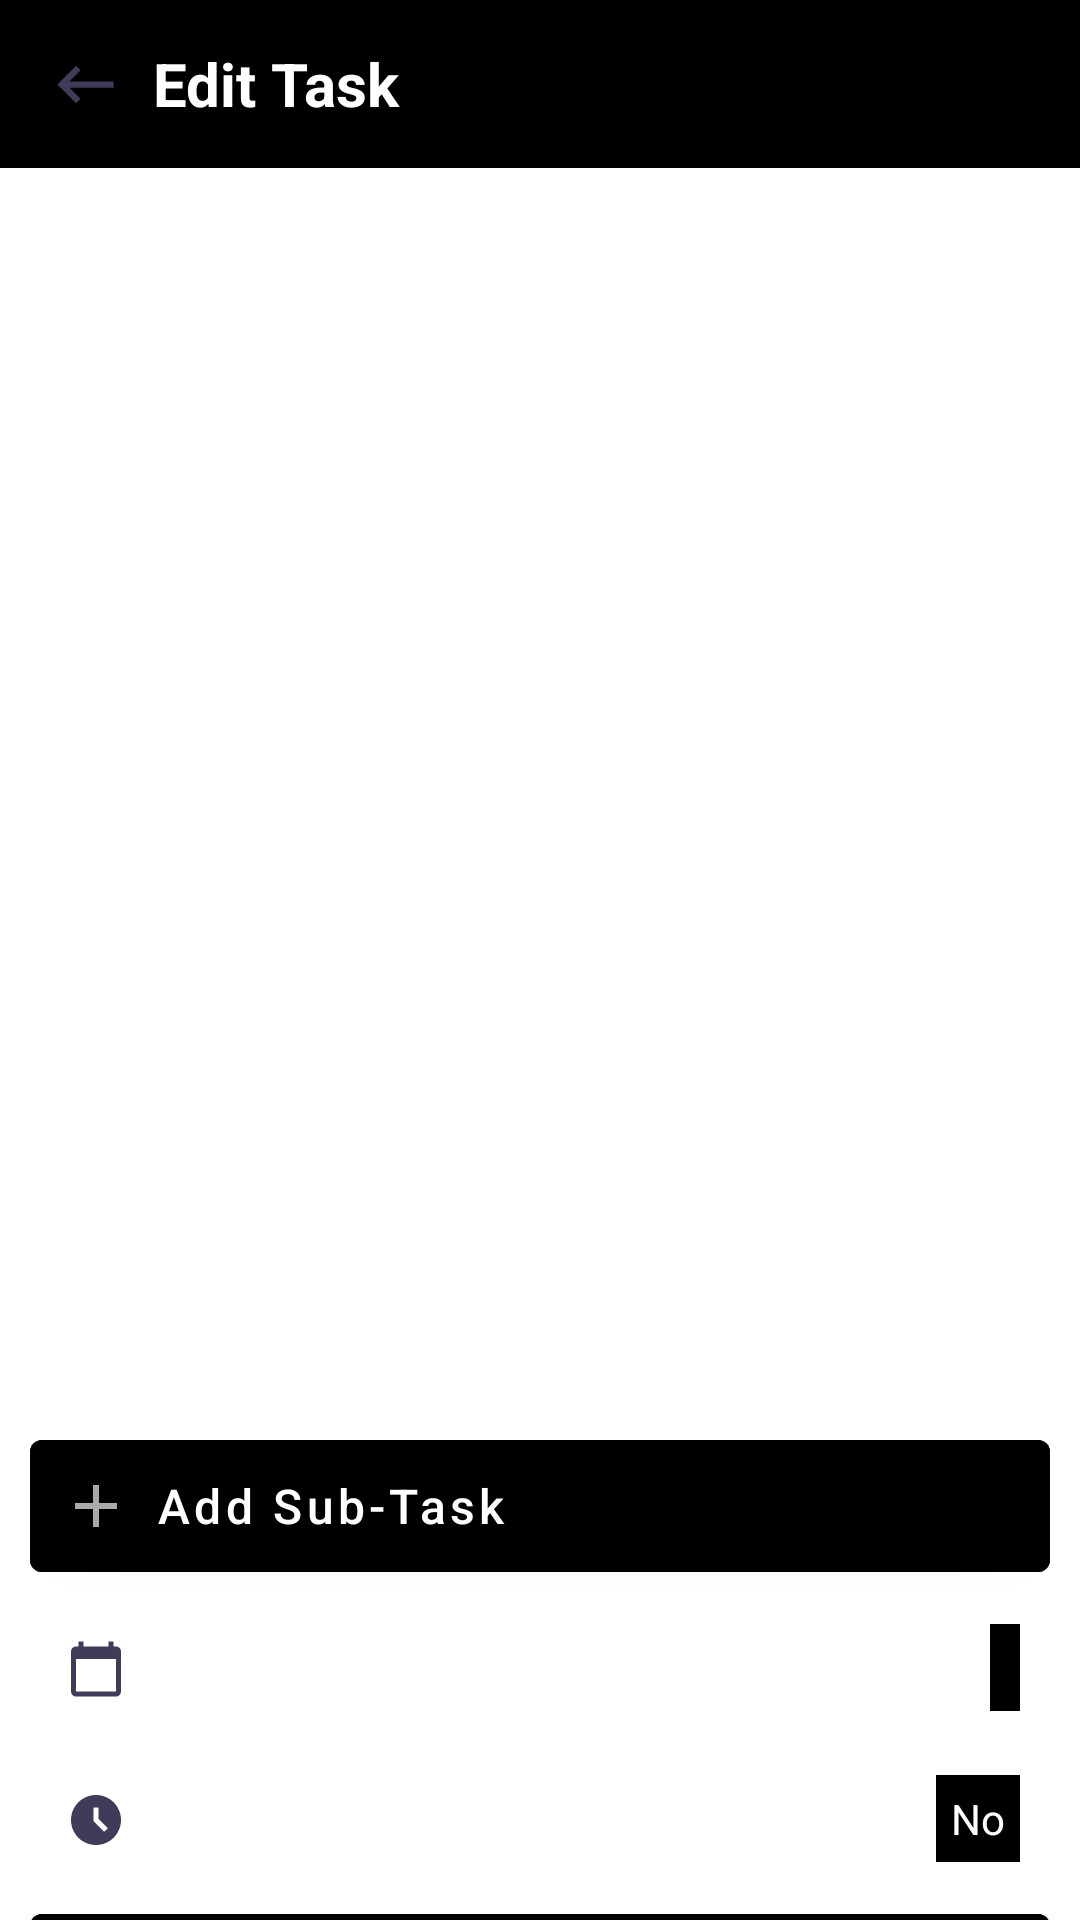

Screen size 1080×1920. Icon name, then its box in pixels as detection(x1, y1, x2, y2):
back: detection(57, 66, 114, 103)
